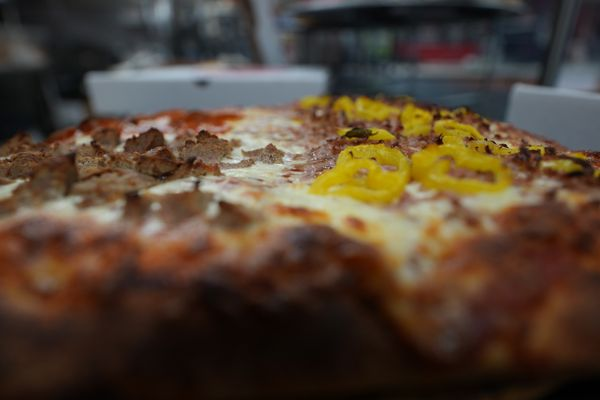sandwich: (0, 91, 598, 385)
